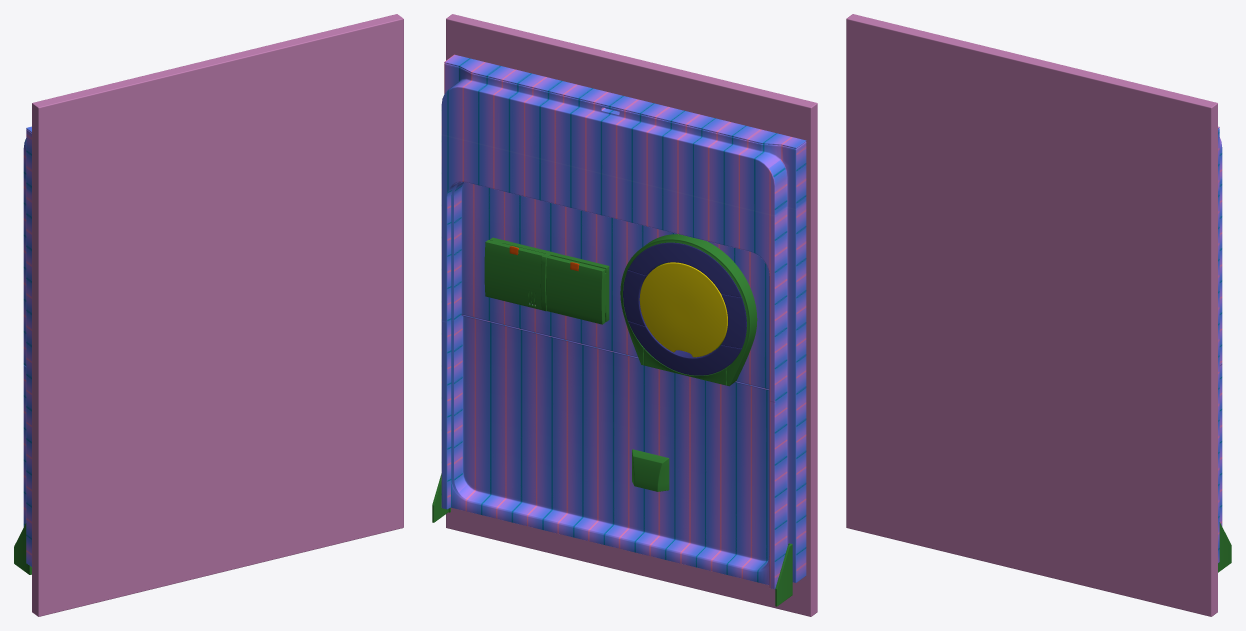
The model's file is SM_Dishwasher_Front.fbx.
3 renders of one model, left to right at view 1: azimuth 30°, elevation 25°; view 2: azimuth 150°, elevation 25°; view 3: azimuth 330°, elevation 25°, orthographic.
Parts seen in each view (by area): view 1: SM_Dishwasher_Front; view 2: SM_Dishwasher_Front; view 3: SM_Dishwasher_Front.
Part boxes in pixels (<box>): SM_Dishwasher_Front: <box>14,14,403,616</box>; SM_Dishwasher_Front: <box>432,14,817,616</box>; SM_Dishwasher_Front: <box>846,14,1231,616</box>.
Size of the model in its own units: 59.69 by 79.49 by 9.22.
Materials: 7 (2 with a texture image).
